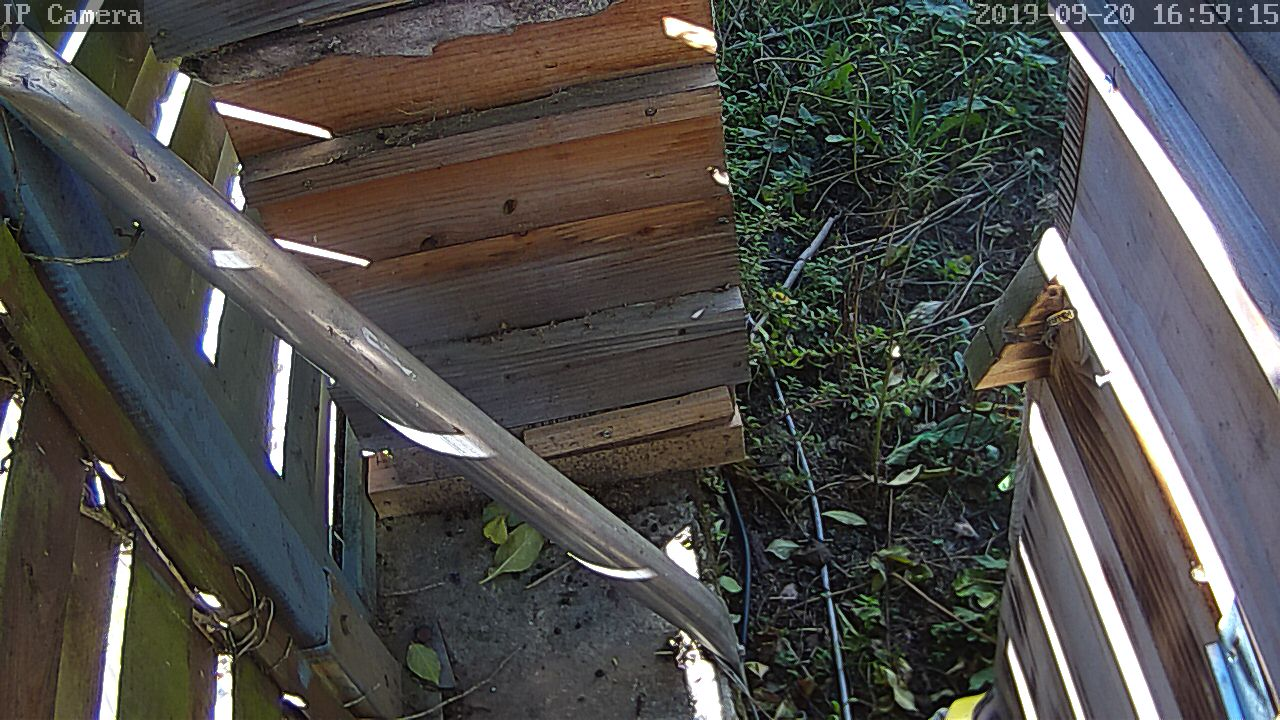hornet: (72, 0, 1251, 720), (504, 4, 1256, 641)
